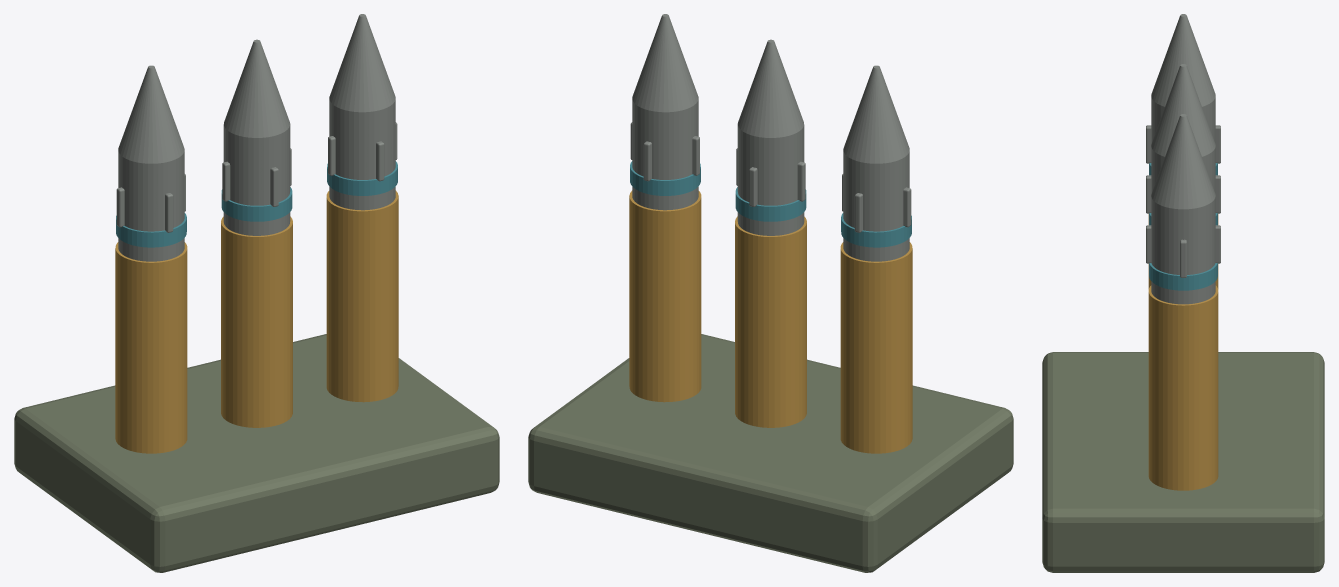
Rendered from ammo_1.glb.
3 renders of one model, left to right at view 1: azimuth 30°, elevation 25°; view 2: azimuth 150°, elevation 25°; view 3: azimuth 270°, elevation 25°, orthographic. The views are drawn at different scales.
Parts seen in each view (by area): view 1: ammo_1; view 2: ammo_1; view 3: ammo_1.
Part boxes in pixels (bbox=[...]): ammo_1: bbox=[14, 14, 499, 572]; ammo_1: bbox=[528, 14, 1013, 572]; ammo_1: bbox=[1042, 14, 1324, 572].
Size of the model in its own units: 1.45 by 1.76 by 1.05.
